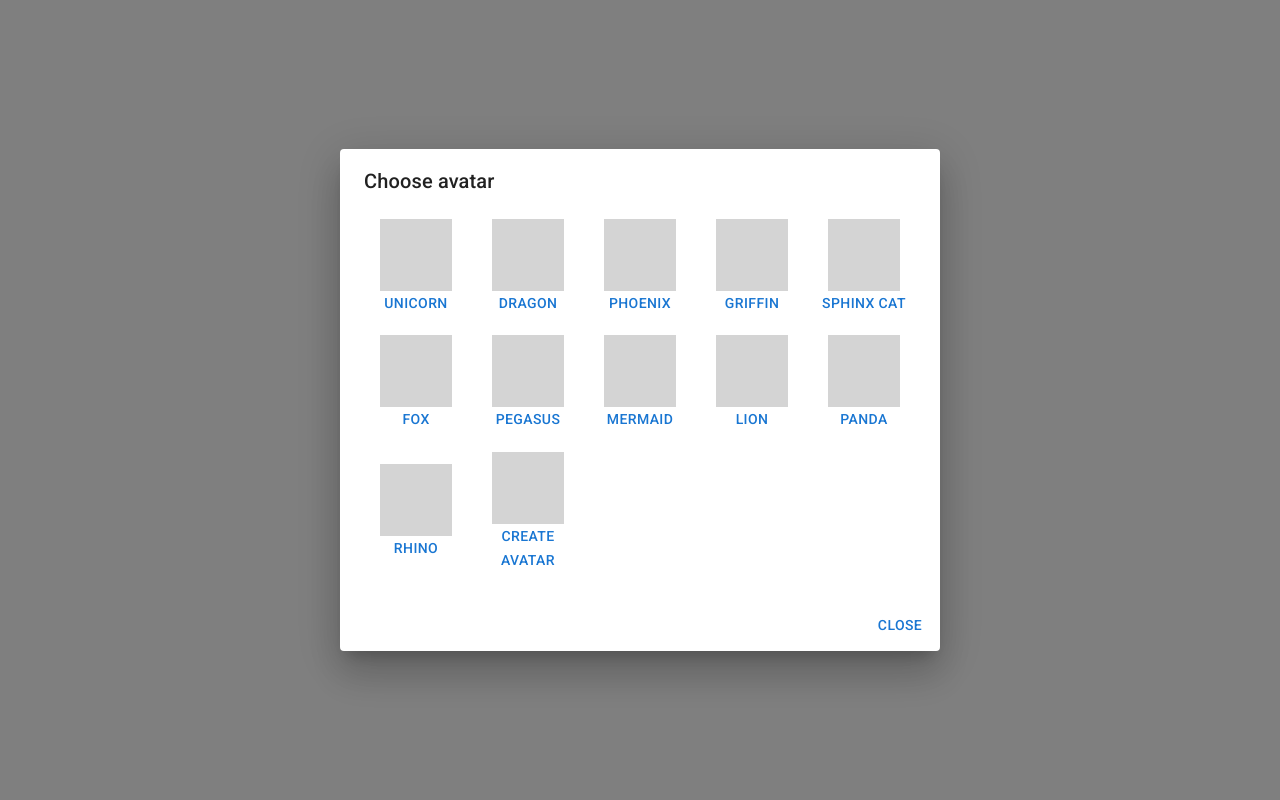
it: explains disabled generation before a failed paid request
Click the button "Create avatar" at (528, 512), box [476,446,580,579]
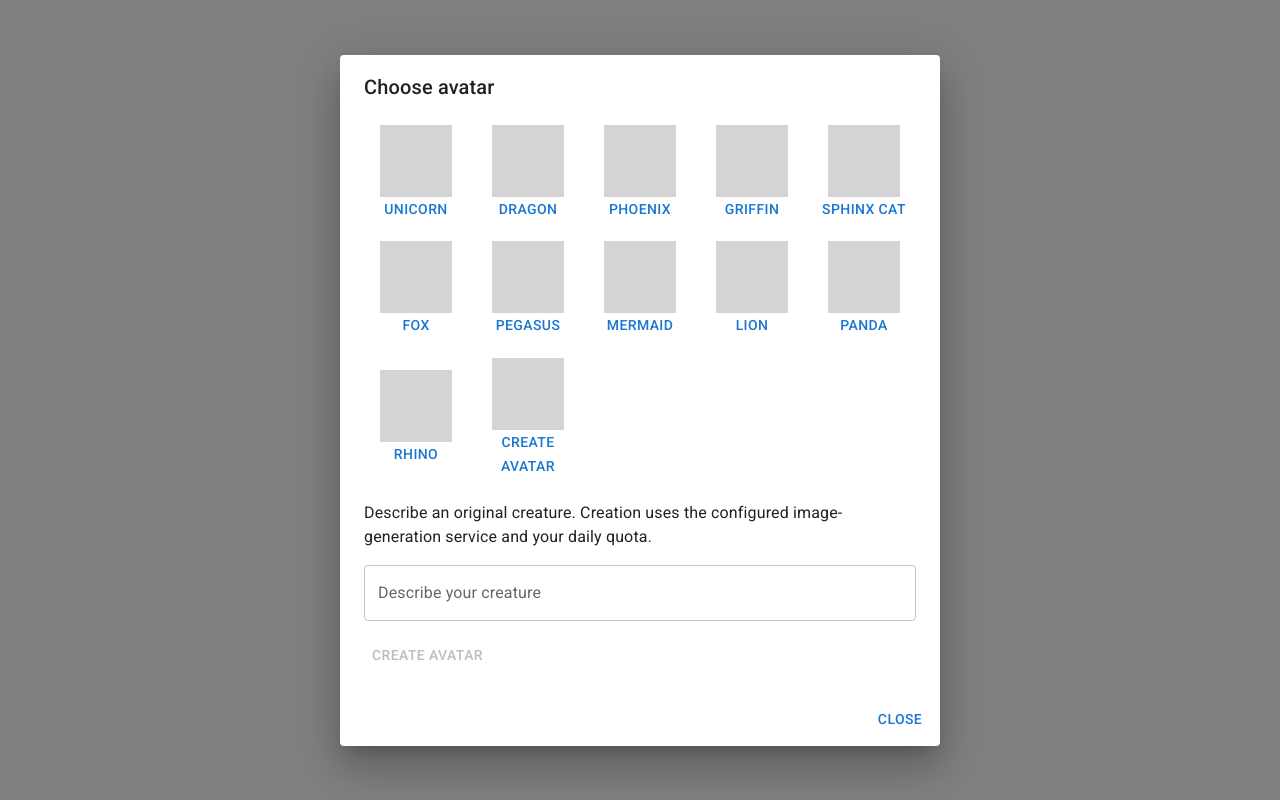
Type "Original creature" into the field at (640, 592), box [364,564,916,620]
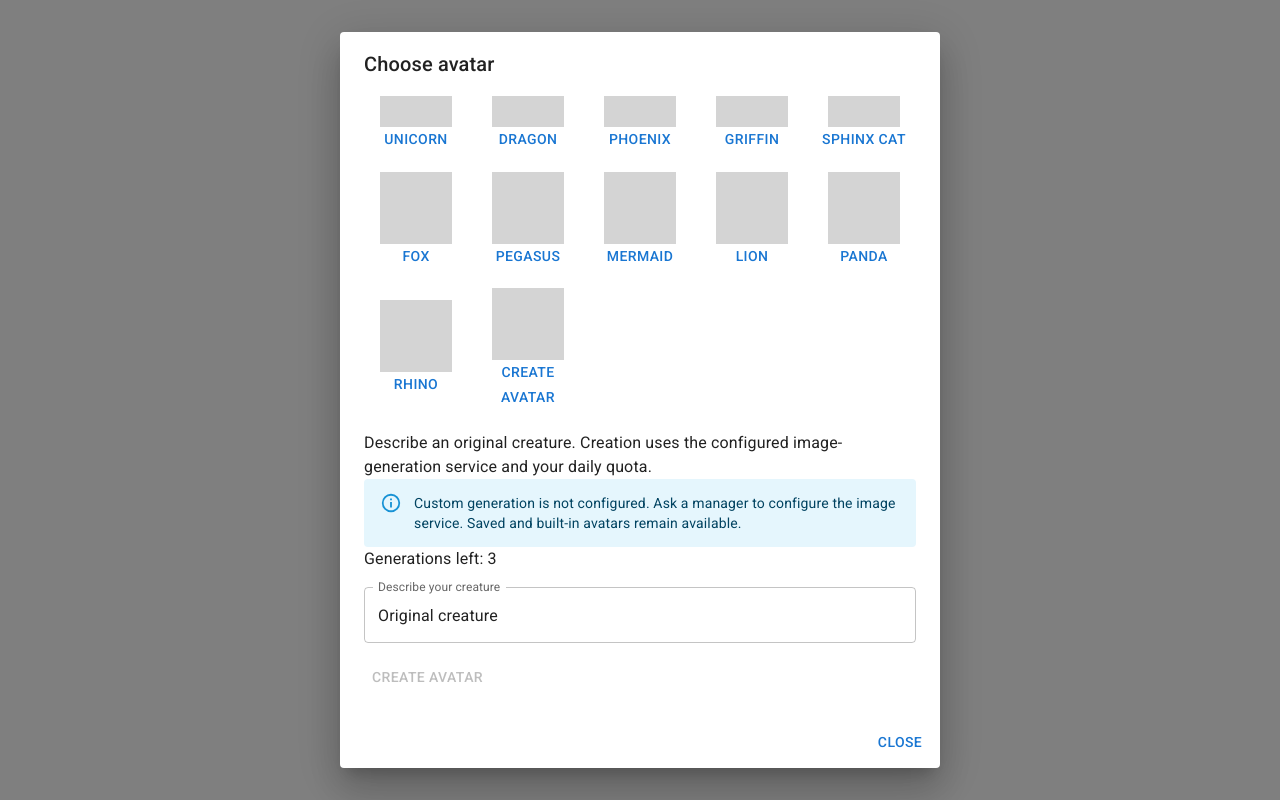
Expected: the button "Create avatar" below "Describe your creature" is disabled, [364,659,491,696]
Expected: the text "not configured" is shown, [414,495,896,531]
